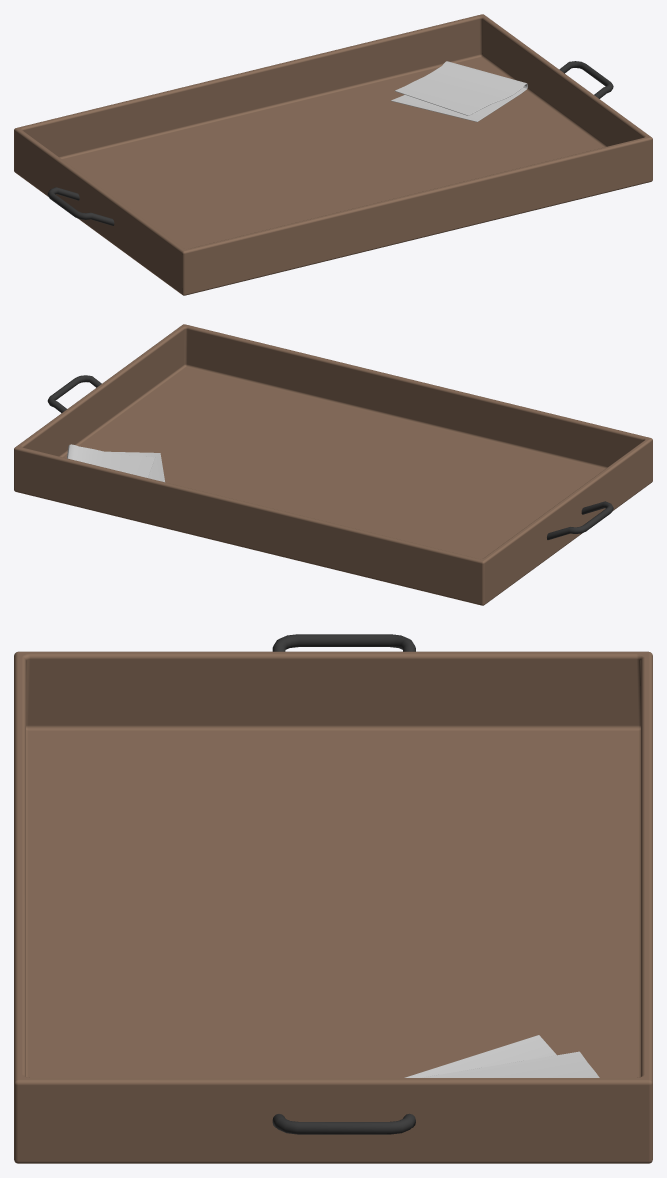
Rendered from Bandeja.fbx.
The picture shows the model from 3 angles, top to bottom: view 1: azimuth 30°, elevation 25°; view 2: azimuth 150°, elevation 25°; view 3: azimuth 270°, elevation 25°; orthographic projection. The views are drawn at different scales.
Parts seen in each view (by area): view 1: Bandeja; view 2: Bandeja; view 3: Bandeja.
Part boxes in pixels (left/top/right/bottom): Bandeja: left=14, top=14, right=652, bottom=295; Bandeja: left=14, top=324, right=652, bottom=605; Bandeja: left=14, top=634, right=652, bottom=1163.
Bounding box in the file's own units: 54.13 × 4.28 × 29.66.
